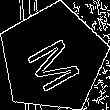M_NE: (20, 26, 86, 91)
